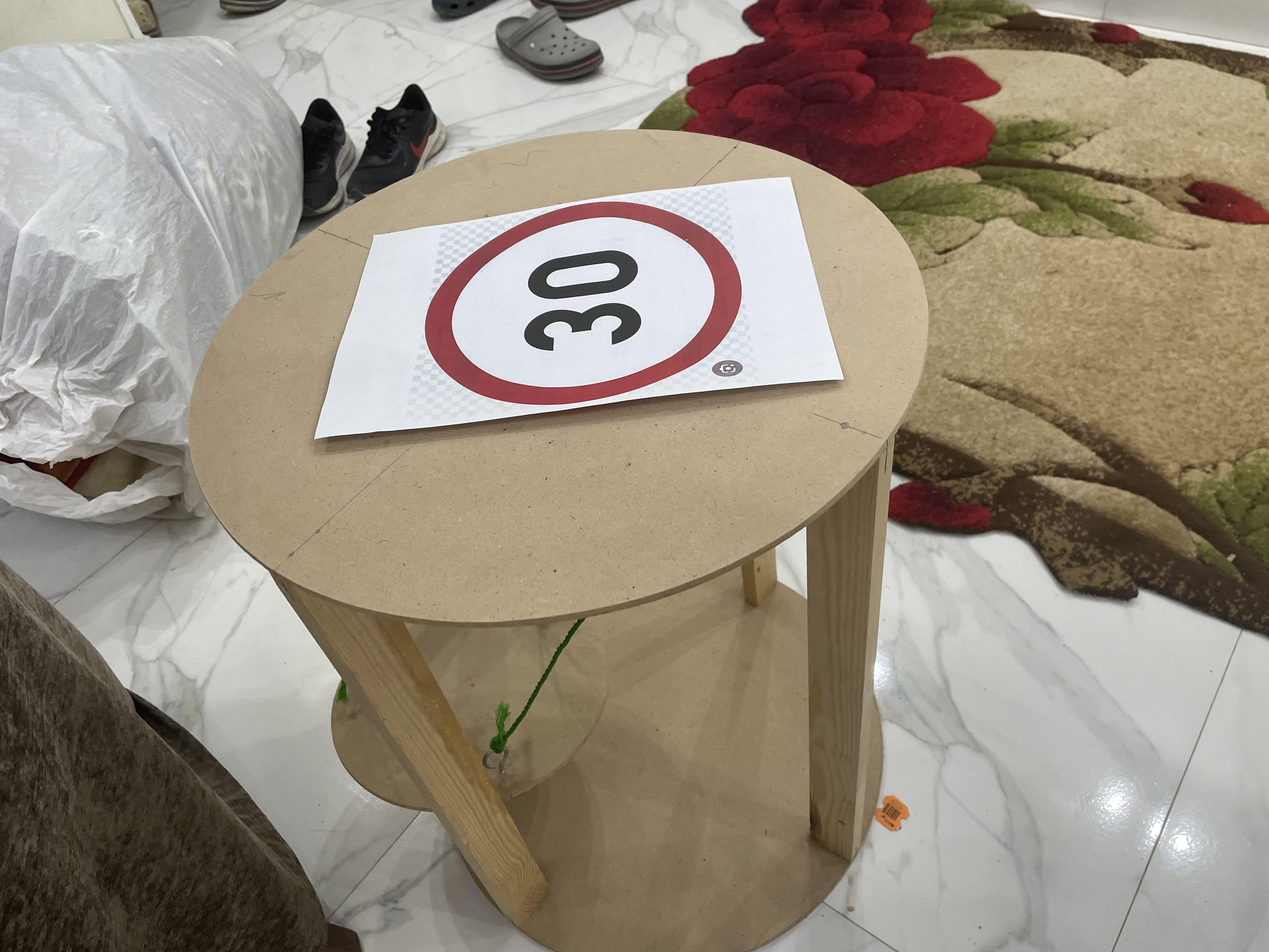30-speed: (420, 202, 748, 407)
